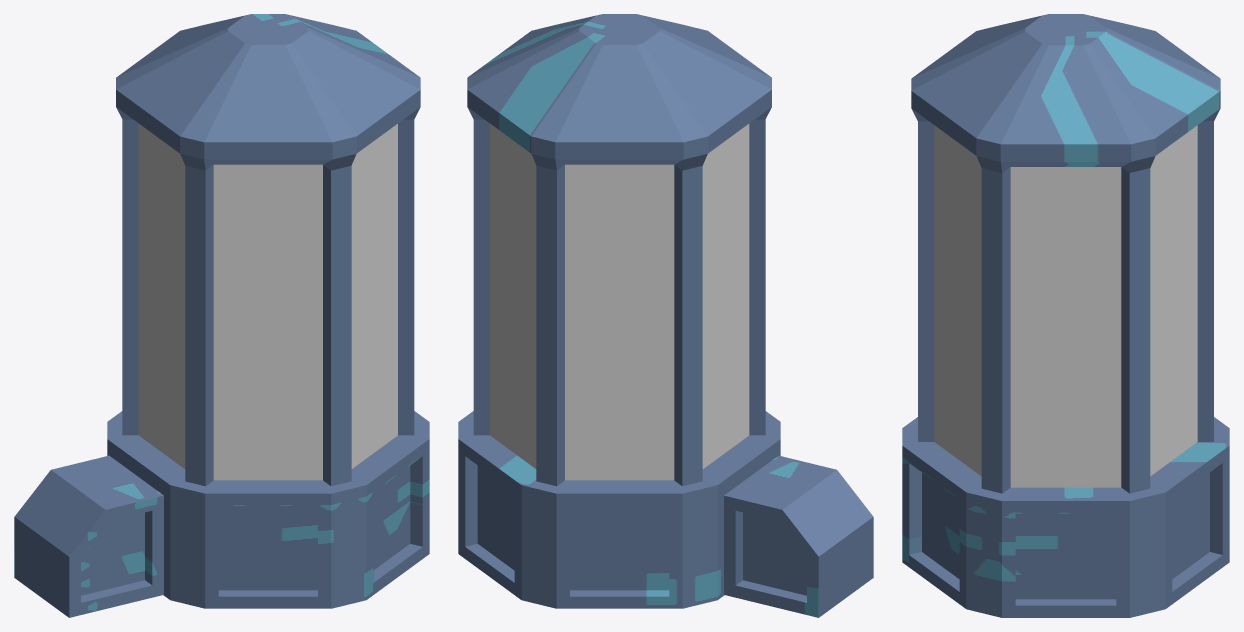
File: human_tank.glb
The picture shows the model from 3 angles, left to right: view 1: azimuth 30°, elevation 25°; view 2: azimuth 150°, elevation 25°; view 3: azimuth 270°, elevation 25°; orthographic projection.
Parts seen in each view (by area): view 1: human_tank; view 2: human_tank; view 3: human_tank.
Part boxes in pixels (box(x1,y1,x2,y2)): human_tank: box(14, 14, 429, 617); human_tank: box(458, 14, 873, 617); human_tank: box(902, 14, 1229, 617).
Size of the model in its own units: 7.51 by 10.4 by 5.89.
1 material, 1 textured.
